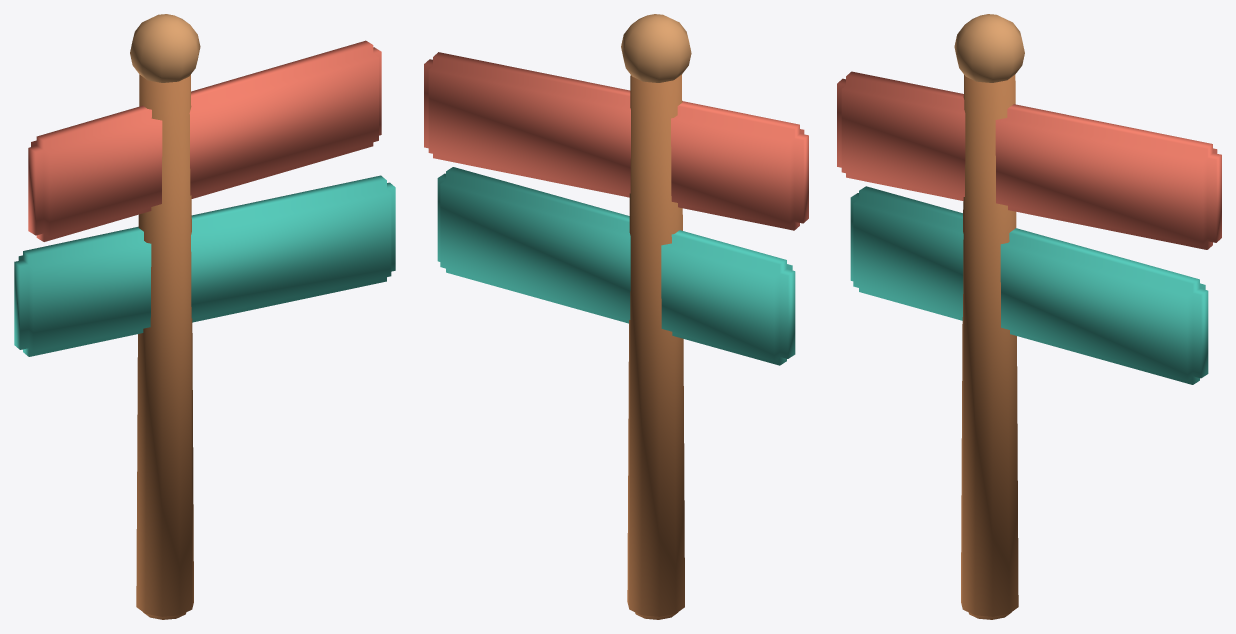
File: RouteSignpost.fbx
3 renders of one model, left to right at view 1: azimuth 30°, elevation 25°; view 2: azimuth 150°, elevation 25°; view 3: azimuth 330°, elevation 25°, orthographic.
Parts seen in each view (by area): view 1: RouteSignpost; view 2: RouteSignpost; view 3: RouteSignpost.
Part boxes in pixels (bbox=[...]): RouteSignpost: bbox=[14, 14, 395, 619]; RouteSignpost: bbox=[424, 14, 808, 619]; RouteSignpost: bbox=[837, 14, 1221, 619].
Bounding box in the file's own units: 1.28 × 2 × 0.22.
